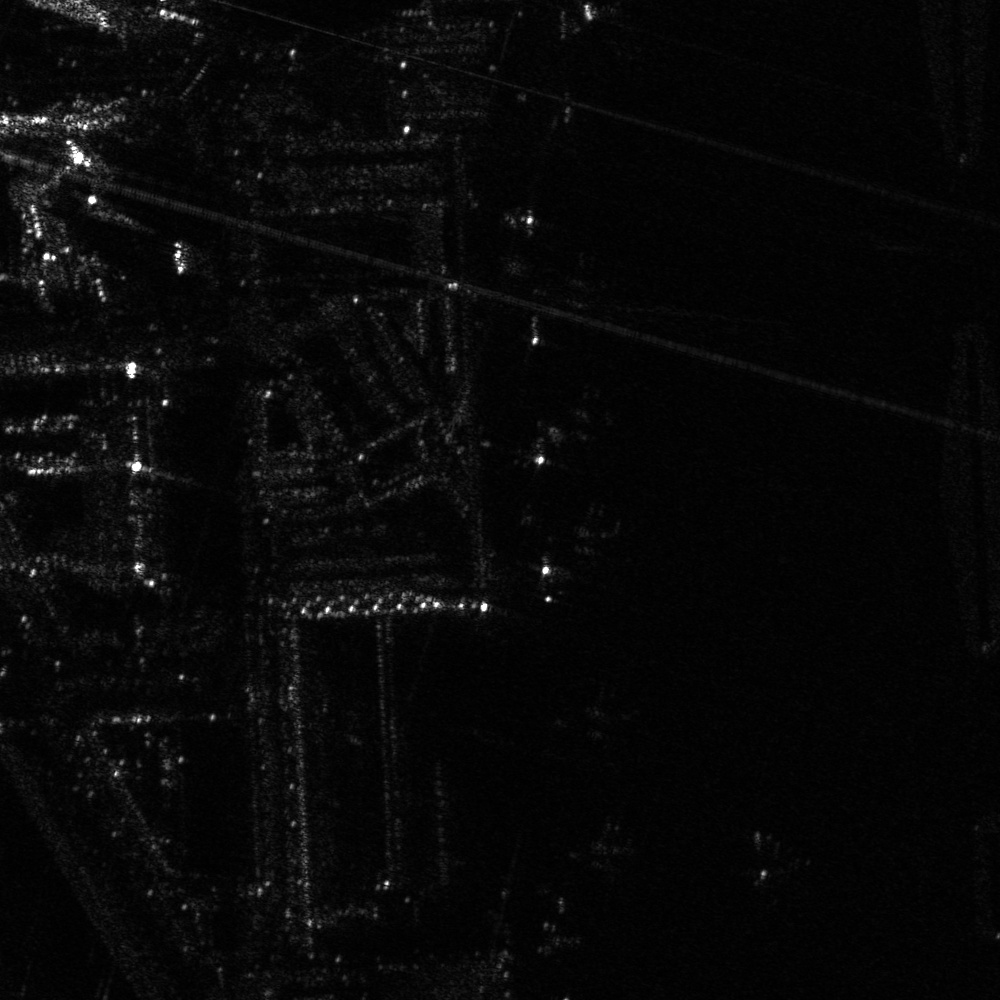A220: (536, 372, 644, 469), (539, 491, 641, 574), (568, 804, 657, 882), (561, 682, 643, 759)
other: (716, 820, 828, 891)
